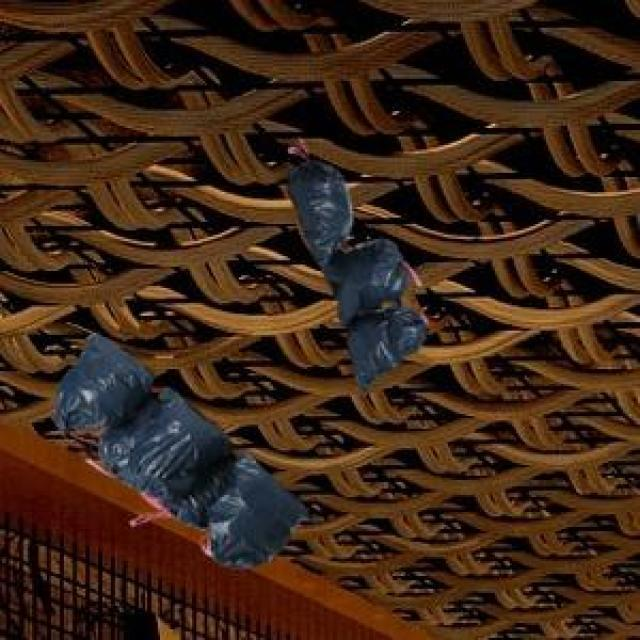Vinyl: (55, 335, 305, 567), (290, 161, 425, 388)
